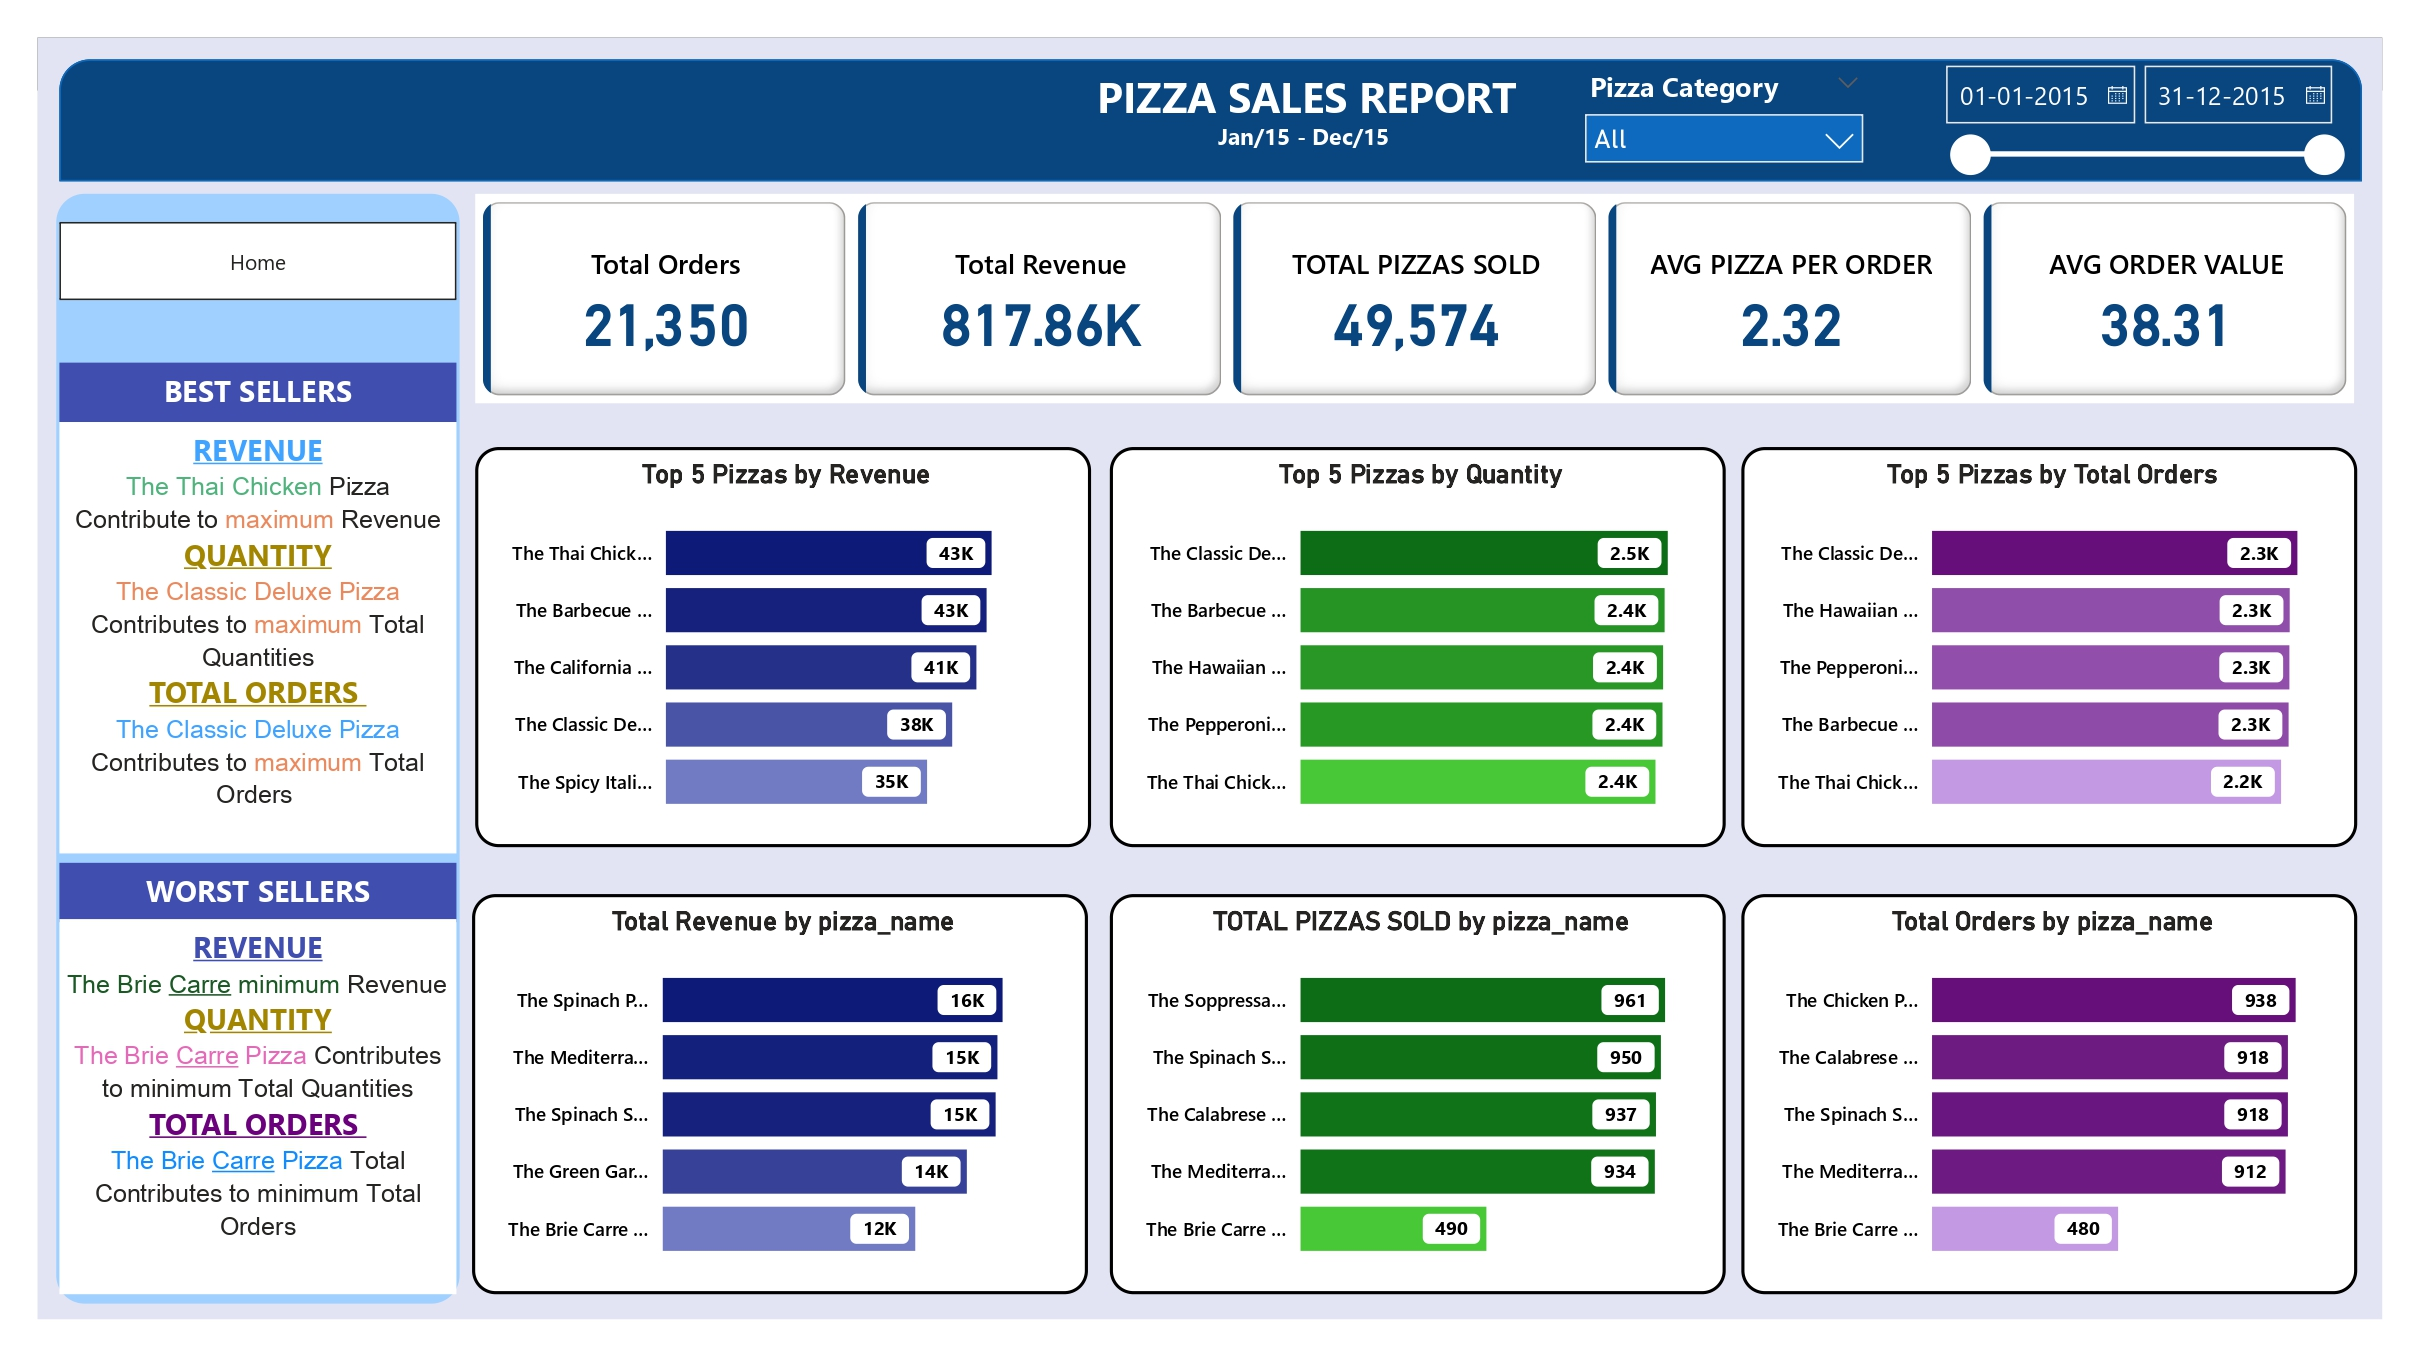

What the dashboard file says about the page in this screenshot:
{"tool":"powerbi","page":{"name":"Best/Worst Sellers","canvas":[1500,820],"ordinal":1},"visuals":[{"type":"cardVisual","fields":{"Data":["pizza_sales.Total Orders","pizza_sales.Total Revenue","pizza_sales.TOTAL PIZZAS SOLD","pizza_sales.AVG PIZZA PER ORDER","pizza_sales.AVG ORDER VALUE"]},"box":[280,100,1202,134],"z":0},{"type":"shape","box":[14,14,1473,78],"z":1000},{"type":"textbox","box":[634,14,356,46],"z":2000},{"type":"textbox","box":[750,48,130,36],"z":3000},{"type":"shape","box":[12,100,258,710],"z":4000},{"type":"textbox","box":[14,208,254,38],"z":5000},{"type":"textbox","box":[14,246,254,276],"z":6000},{"type":"textbox","box":[14,528,254,38],"z":7000},{"type":"textbox","box":[14,564,254,240],"z":8000},{"type":"slicer","fields":{"Values":["pizza_sales.pizza_category"]},"box":[980,14,198,70],"z":9000},{"type":"slicer","fields":{"Values":["pizza_sales.order_date"]},"box":[1208,8,276,84],"z":10000},{"type":"barChart","title":"Top 5 Pizzas by Revenue","fields":{"Y":["pizza_sales.Total Revenue"],"Category":["pizza_sales.pizza_name"]},"box":[280,262,394,256],"z":11000},{"type":"barChart","fields":{"Category":["pizza_sales.pizza_name"],"Y":["pizza_sales.Total Revenue"]},"box":[278,548,394,256],"z":12000},{"type":"barChart","title":"Top 5 Pizzas by Quantity","fields":{"Category":["pizza_sales.pizza_name"],"Y":["pizza_sales.TOTAL PIZZAS SOLD"]},"box":[686,262,394,256],"z":13000},{"type":"barChart","title":"Top 5 Pizzas by Total Orders","fields":{"Category":["pizza_sales.pizza_name"],"Y":["pizza_sales.Total Orders"]},"box":[1090,262,394,256],"z":14000},{"type":"barChart","fields":{"Category":["pizza_sales.pizza_name"],"Y":["pizza_sales.TOTAL PIZZAS SOLD"]},"box":[686,548,394,256],"z":15000},{"type":"barChart","fields":{"Y":["pizza_sales.Total Orders"],"Category":["pizza_sales.pizza_name"]},"box":[1090,548,394,256],"z":16000},{"type":"pageNavigator","box":[14,118,254,50],"z":16001}]}

Visuals, with their boxes in screenshot pixels (x1, y1, x2, y2):
cardVisual - pizza_sales.Total Orders x pizza_sales.Total Revenue: BBox(475, 194, 2354, 403)
shape: BBox(59, 59, 2362, 181)
textbox: BBox(1029, 59, 1585, 131)
textbox: BBox(1210, 113, 1413, 169)
shape: BBox(56, 194, 460, 1304)
textbox: BBox(59, 363, 456, 422)
textbox: BBox(59, 422, 456, 854)
textbox: BBox(59, 863, 456, 922)
textbox: BBox(59, 919, 456, 1294)
slicer - pizza_sales.pizza_category: BBox(1570, 59, 1879, 169)
slicer - pizza_sales.order_date: BBox(1926, 50, 2357, 181)
"Top 5 Pizzas by Revenue" barChart: BBox(475, 447, 1091, 847)
barChart - pizza_sales.pizza_name x pizza_sales.Total Revenue: BBox(472, 894, 1088, 1294)
"Top 5 Pizzas by Quantity" barChart: BBox(1110, 447, 1726, 847)
"Top 5 Pizzas by Total Orders" barChart: BBox(1742, 447, 2357, 847)
barChart - pizza_sales.pizza_name x pizza_sales.TOTAL PIZZAS SOLD: BBox(1110, 894, 1726, 1294)
barChart - pizza_sales.Total Orders x pizza_sales.pizza_name: BBox(1742, 894, 2357, 1294)
pageNavigator: BBox(59, 222, 456, 300)
